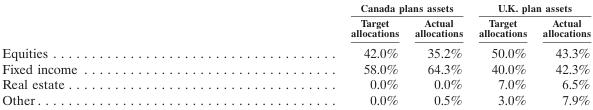table: (1, 0, 590, 106)
table column: (1, 0, 213, 106), (213, 0, 406, 106), (406, 0, 470, 106), (470, 0, 534, 106), (534, 0, 590, 106)
table column header: (1, 0, 590, 41)
table row: (1, 14, 590, 41), (1, 41, 590, 60), (1, 75, 590, 91), (1, 60, 590, 75), (1, 91, 590, 106), (1, 0, 590, 14)
table spanning cell: (213, 0, 470, 14), (470, 0, 590, 14)
